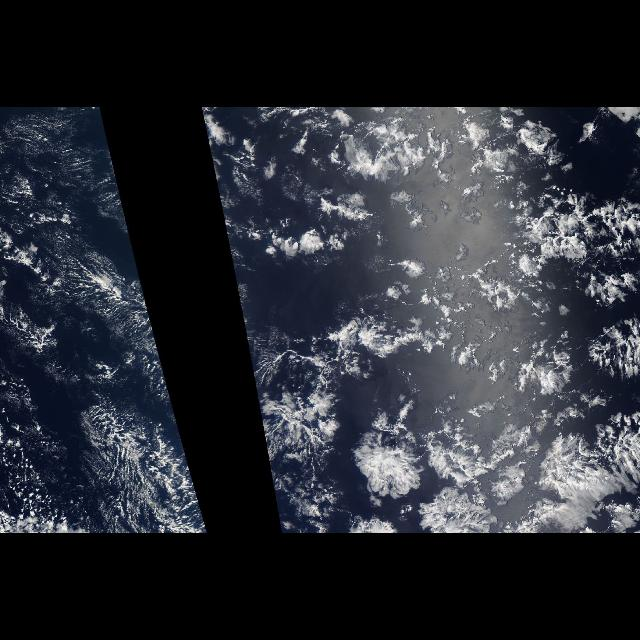Flower: (216, 107, 640, 533)
